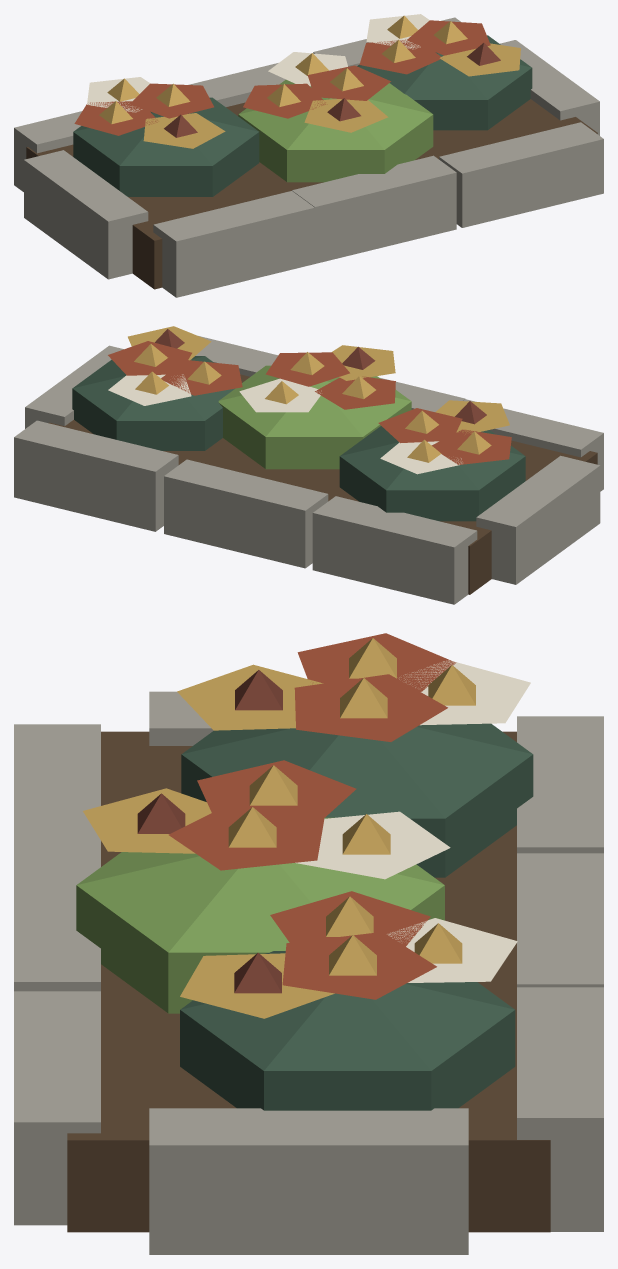
File: prop-flower-bed.glb
The picture shows the model from 3 angles, top to bottom: view 1: azimuth 30°, elevation 25°; view 2: azimuth 150°, elevation 25°; view 3: azimuth 270°, elevation 25°; orthographic projection. The views are drawn at different scales.
Parts seen in each view (by area): view 1: prop-flower-bed; view 2: prop-flower-bed; view 3: prop-flower-bed.
Boxes of the visible parts, left/top/right/bottom form: prop-flower-bed: left=14, top=14, right=603, bottom=297; prop-flower-bed: left=14, top=326, right=603, bottom=604; prop-flower-bed: left=14, top=633, right=603, bottom=1254.
Size of the model in its own units: 2.22 by 0.547 by 1.22.
Materials: 1 (1 with a texture image).
